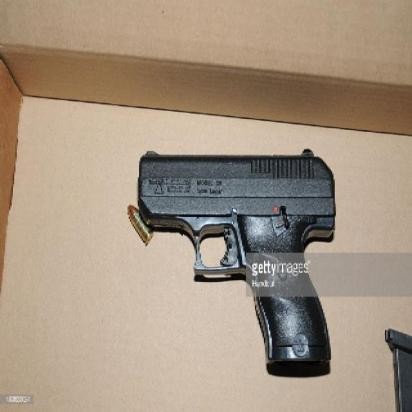Gun: (126, 146, 340, 370)
